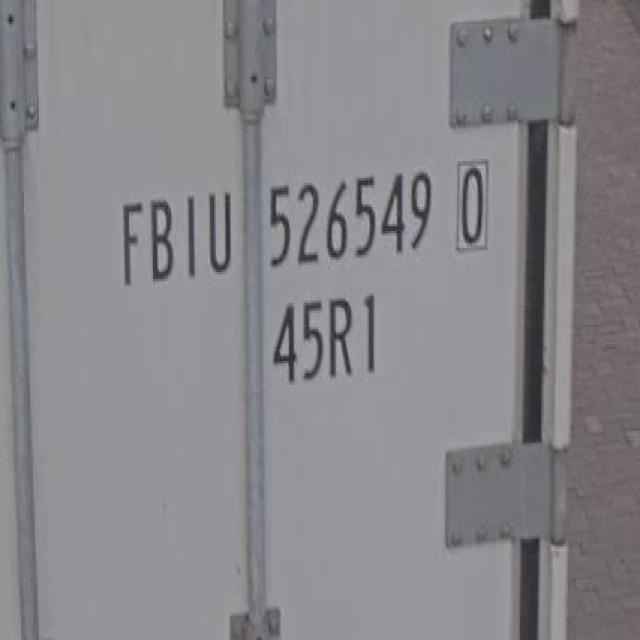dv: (448, 148, 496, 257)
owner: (115, 176, 236, 298)
serial: (262, 154, 437, 276)
size: (265, 290, 389, 385)
